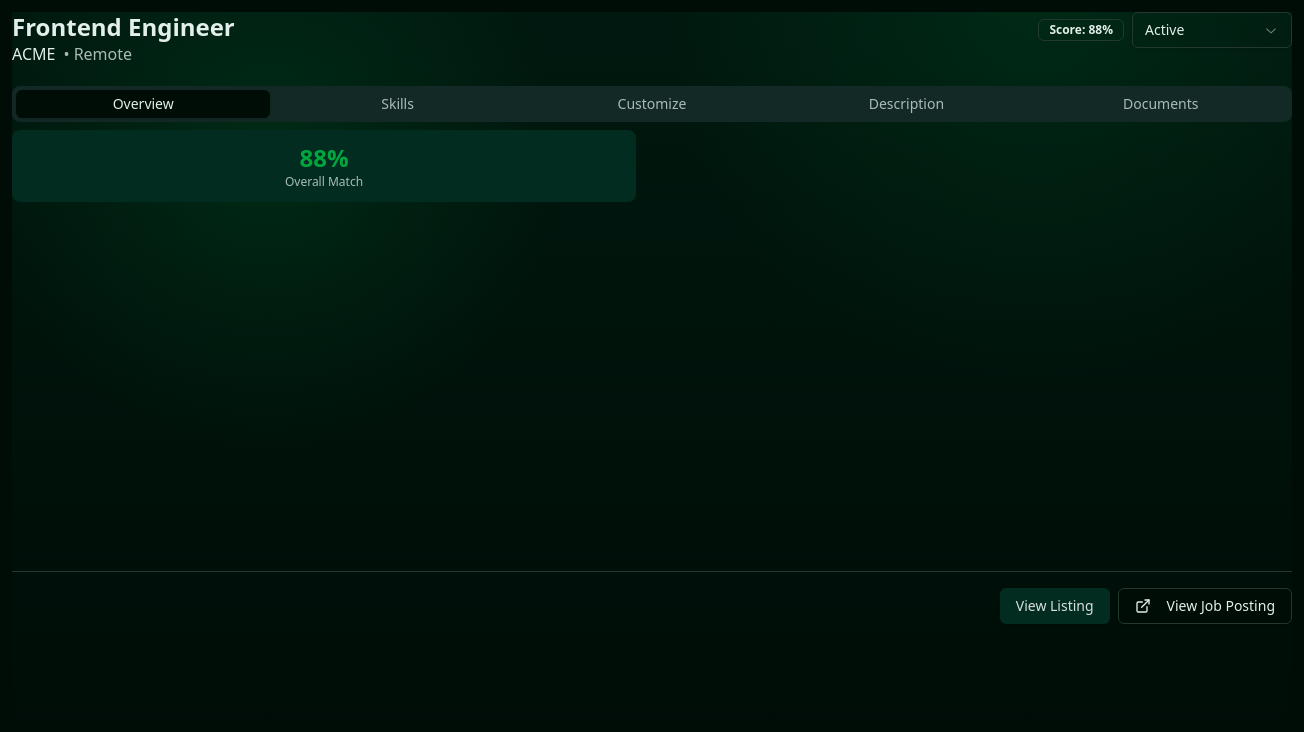
Test: JobMatchModalContent › runs generation flow and shows download buttons
Click the tab "Documents" at (1161, 104), box [1034,90,1288,118]
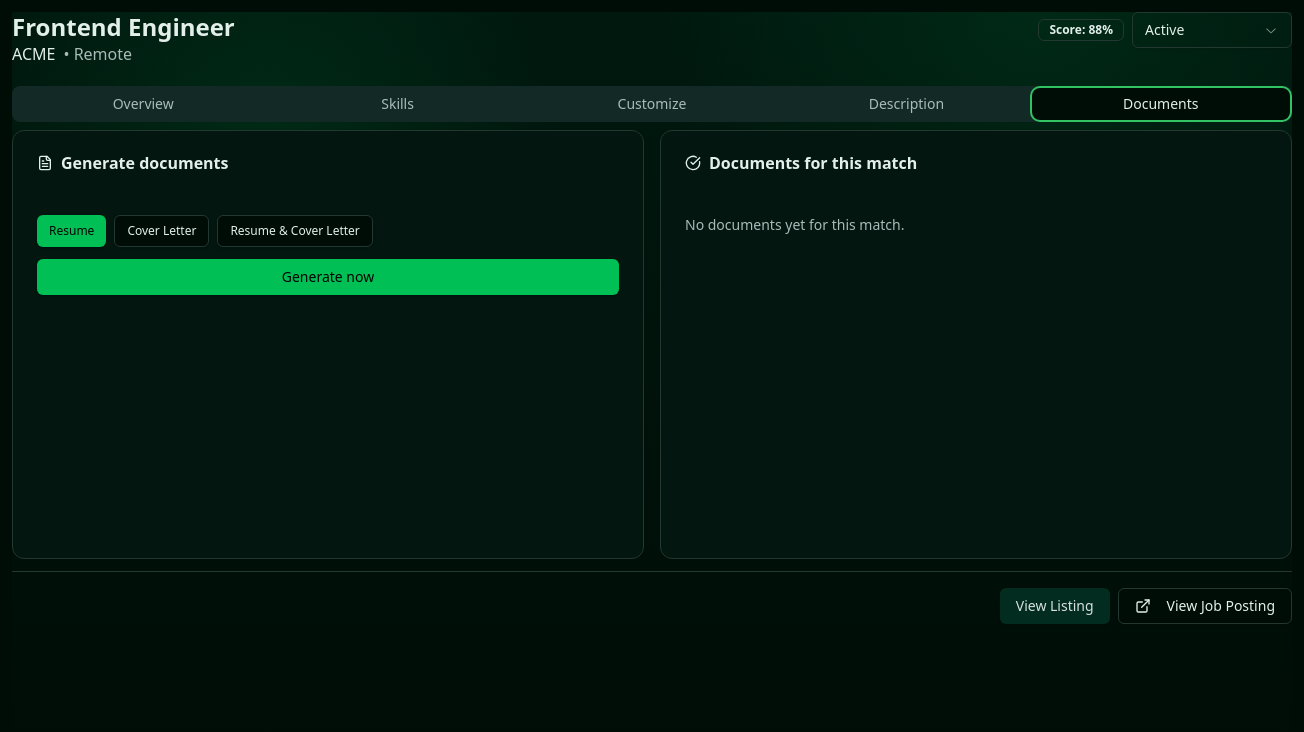
Expected: the tab "Documents" has attribute data-state="active", [1034,90,1288,118]
Click the button "Generate now" at (328, 277), box [37,259,619,295]
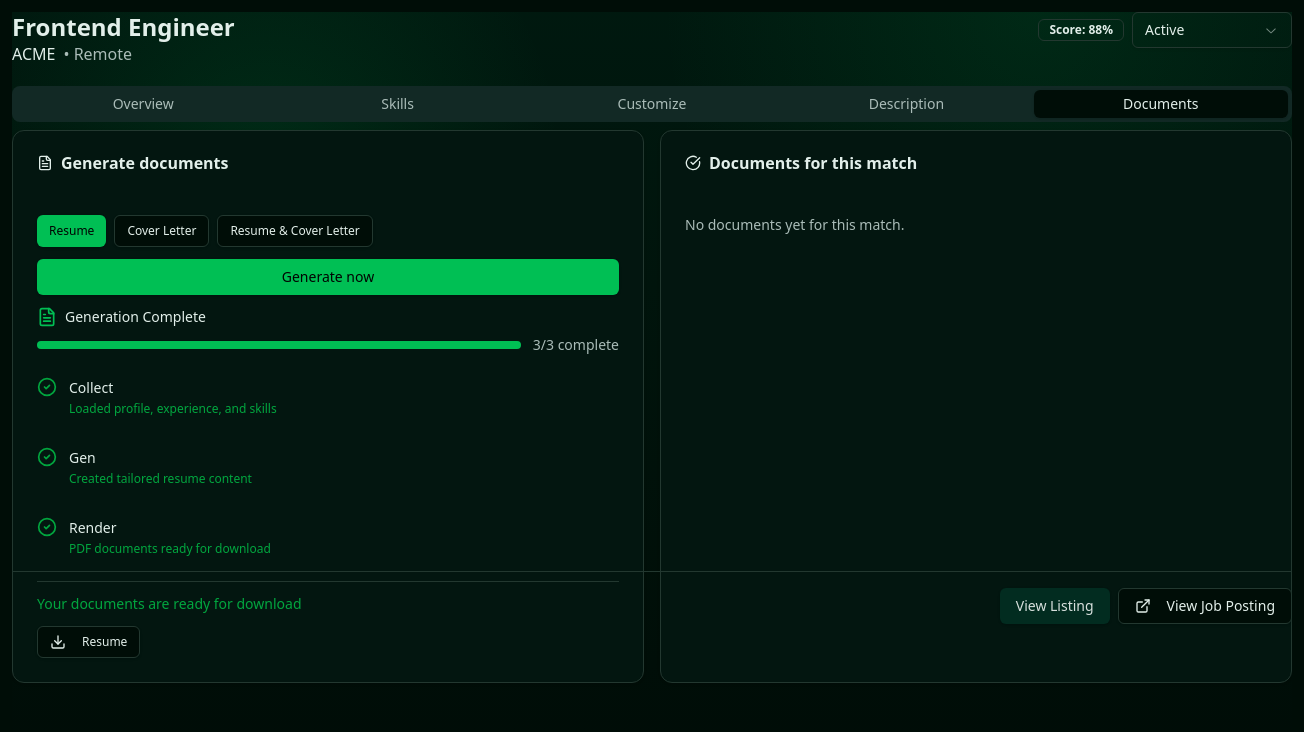
Expected: the button "Resume" is shown, [37,215,106,247]
Expected: the text "PDF documents ready for download" is shown, [69,540,271,557]
